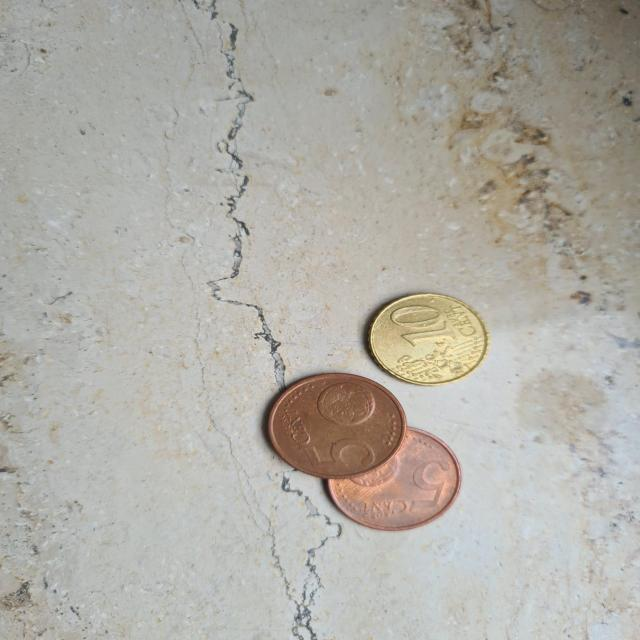10c: (351, 279, 502, 392)
5c: (316, 423, 476, 538), (254, 367, 418, 479)
